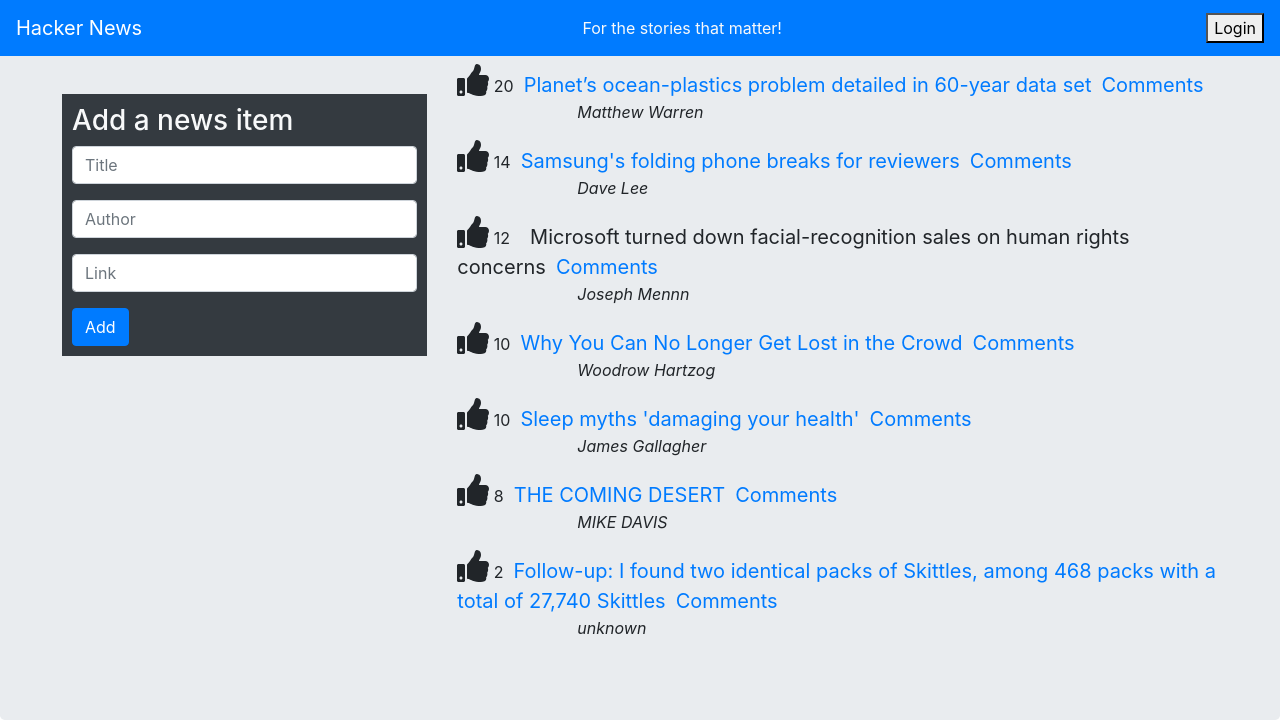
it: Main View › Upvoting › increments the upvote count
Expected: the text "20" is shown, [457,76,514,96]
Click the picture next to "20" at (473, 80), box [457,64,489,96]
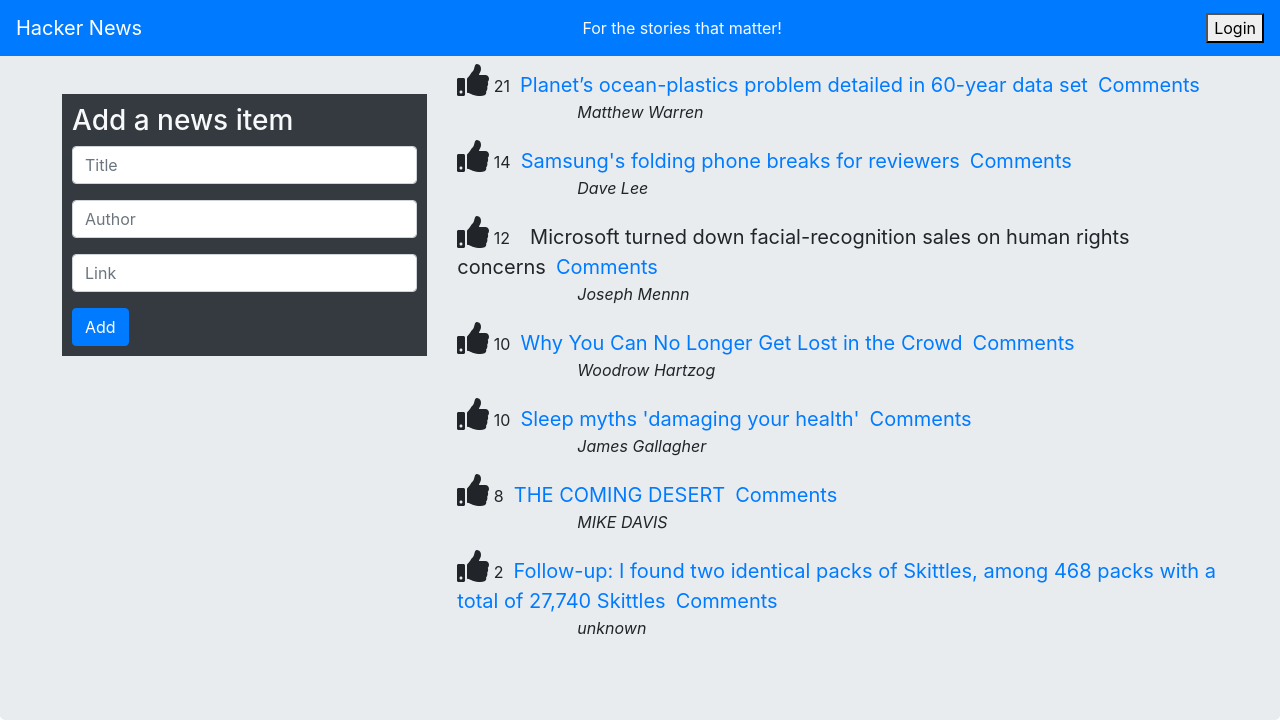
Expected: the text "21" is shown, [457,76,510,96]
Click the picture next to "21" at (473, 80), box [457,64,489,96]
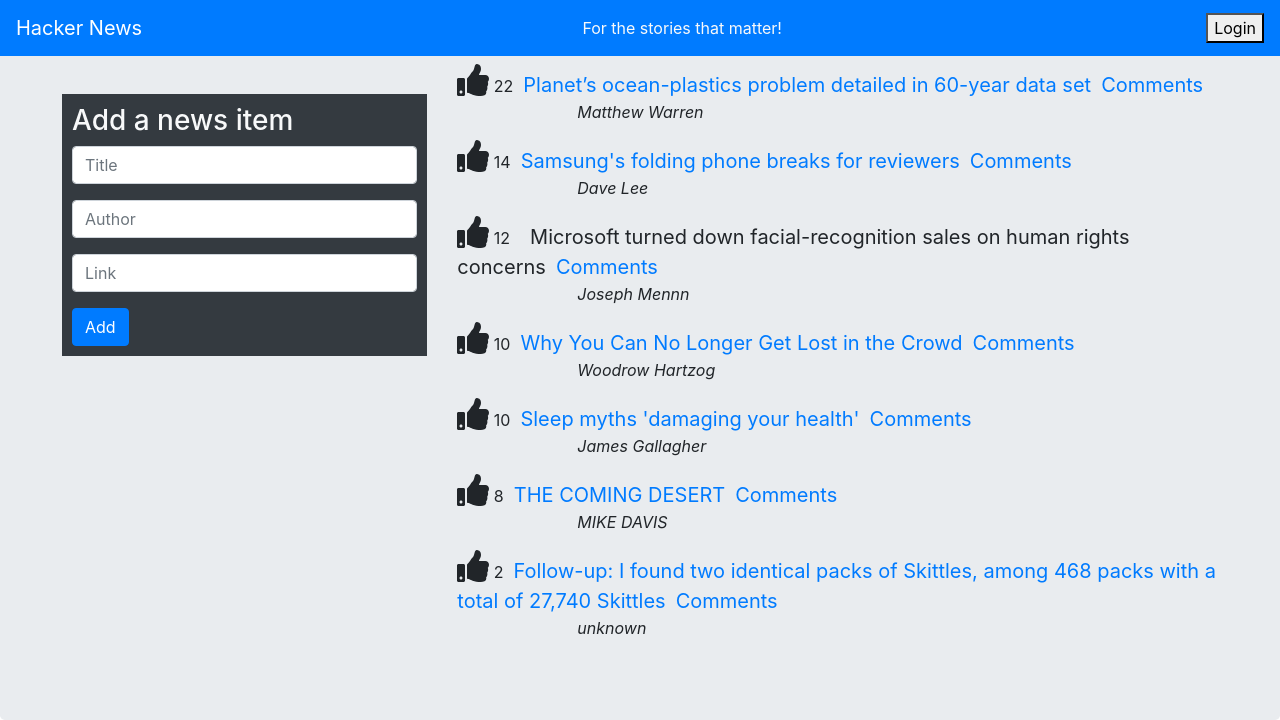
Expected: the text "22" is shown, [457,76,513,96]
